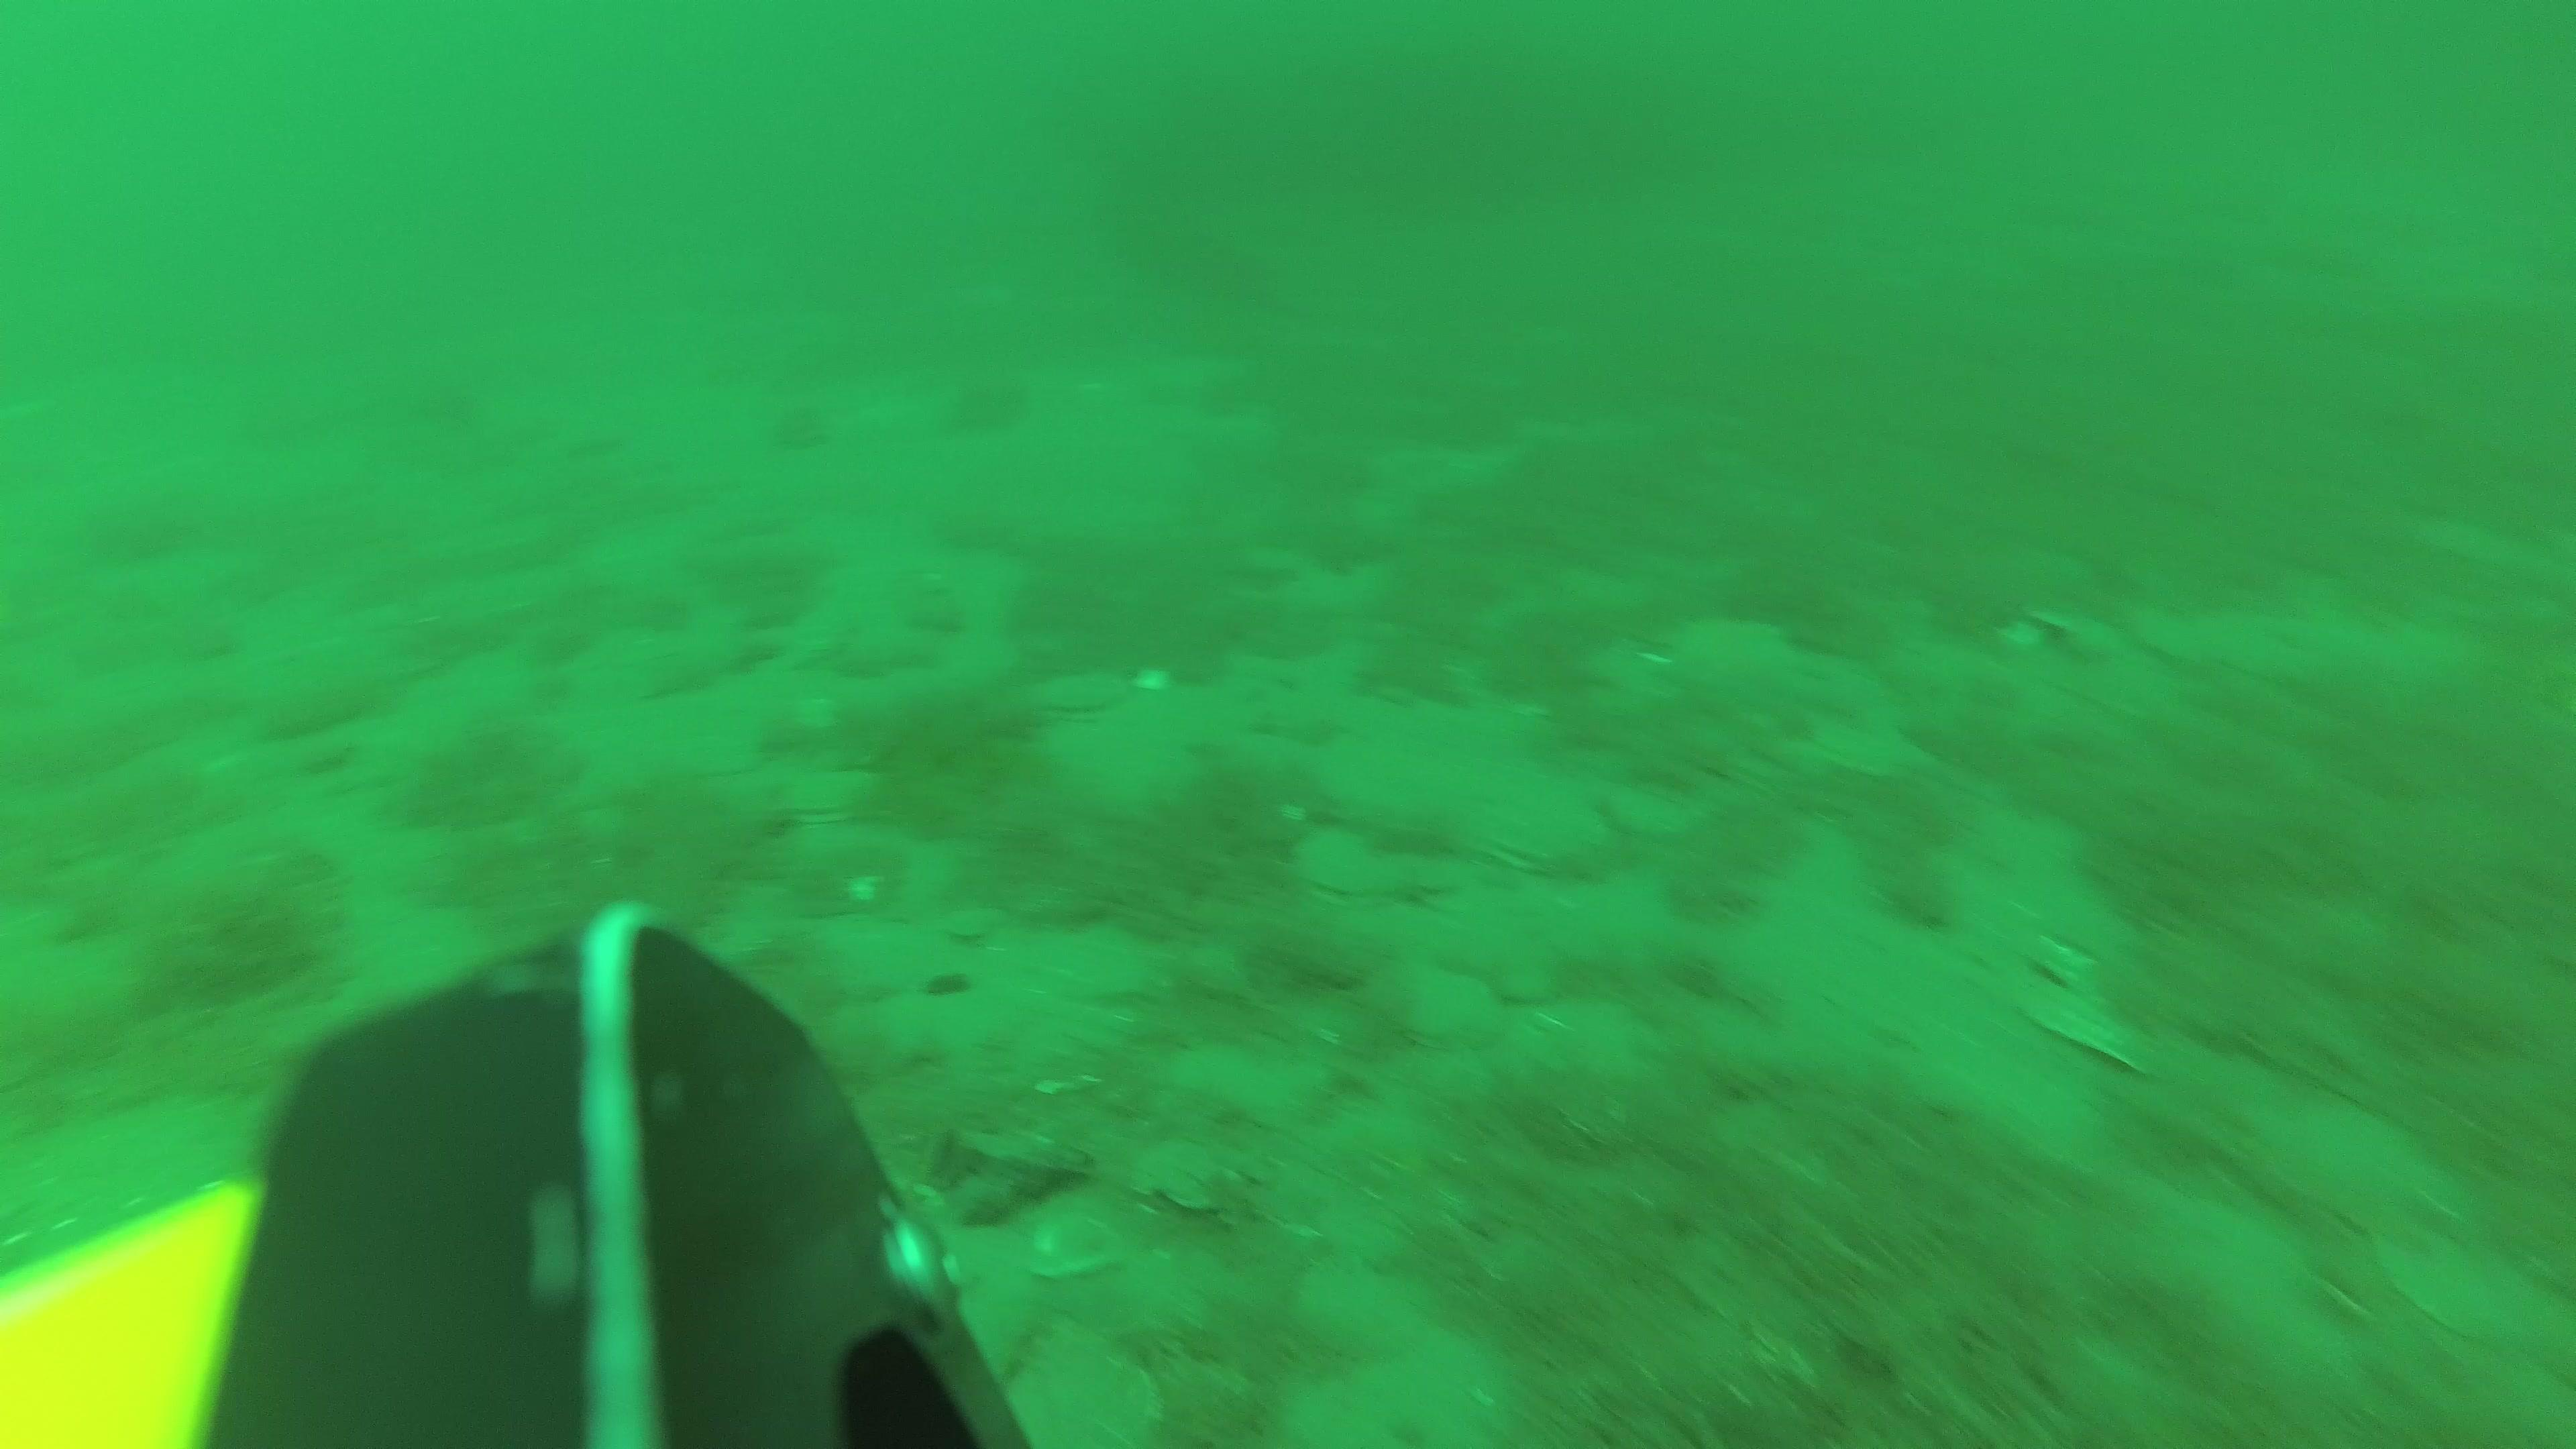scallop: (1302, 833, 1447, 908), (1375, 962, 1493, 1049), (1484, 789, 1603, 872), (777, 768, 883, 826), (1821, 718, 1927, 777), (1605, 777, 1704, 833), (1046, 669, 1131, 722), (943, 908, 993, 943)
starfish: (1645, 610, 1822, 697)
